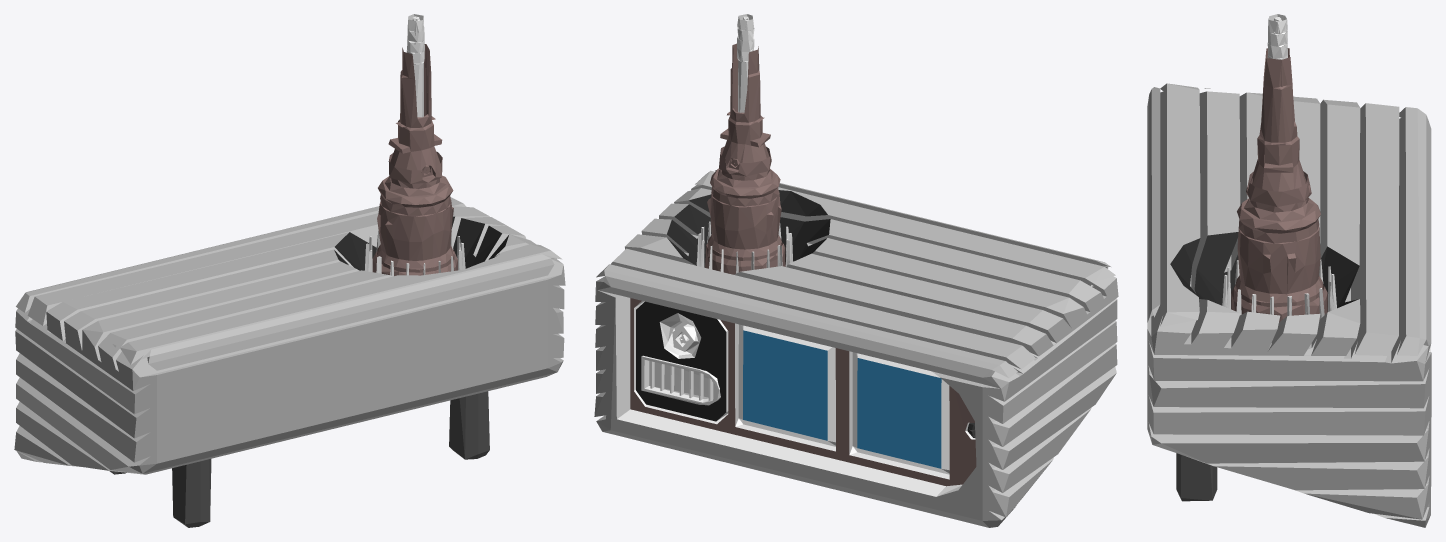
Rendered from Monitor2.fbx.
The picture shows the model from 3 angles, left to right: view 1: azimuth 30°, elevation 25°; view 2: azimuth 150°, elevation 25°; view 3: azimuth 270°, elevation 25°; orthographic projection. The views are drawn at different scales.
Visible parts, largest first — view 1: Monitor 2; view 2: Monitor 2; view 3: Monitor 2.
Part boxes in pixels (box(x1,y1,x2,y2)): Monitor 2: box(14, 14, 565, 527); Monitor 2: box(594, 14, 1118, 527); Monitor 2: box(1147, 14, 1431, 527).
Bounding box in the file's own units: 201 × 184 × 100.
